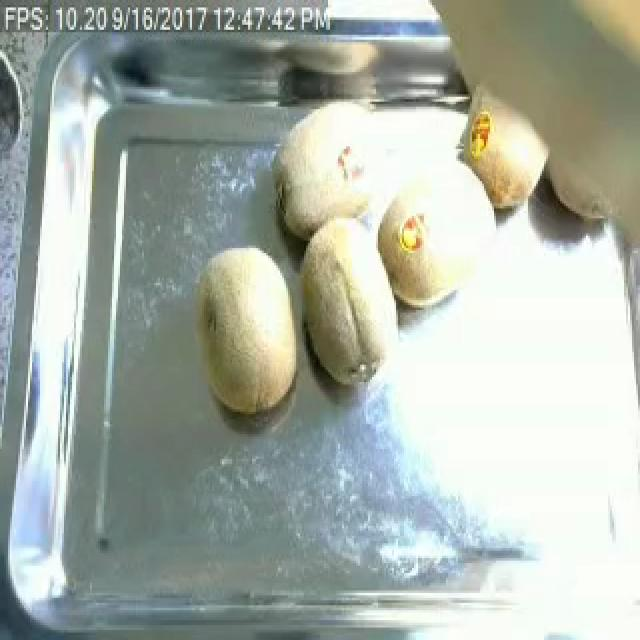Fruit: (530, 12, 640, 266), (184, 238, 310, 427), (288, 211, 408, 397), (450, 72, 560, 221)
